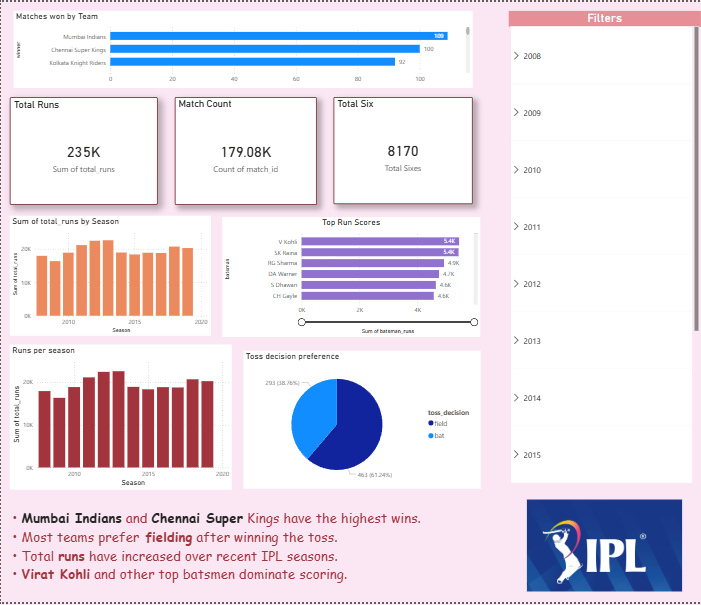

The dashboard page shown, as its layout file describes it:
{"tool":"powerbi","page":{"name":"IPL Analysis ","canvas":[1400,1200],"ordinal":0},"visuals":[{"type":"card","title":"Total Runs","fields":{"Values":["Sum(deliveries.total_runs)"]},"box":[18,190,296,216],"z":0},{"type":"card","title":"Match Count","fields":{"Values":["CountNonNull(deliveries.match_id)"]},"box":[348,190,284,216],"z":1000},{"type":"card","title":"Total Six","fields":{"Values":["deliveries.Total Sixes"]},"box":[664,190,278,214],"z":2000},{"type":"clusteredBarChart","title":"Top Run Scores","fields":{"Category":["deliveries.batsman"],"Y":["Sum(deliveries.batsman_runs)"]},"box":[442,430,516,238],"z":3000},{"type":"clusteredColumnChart","title":"Runs per season","fields":{"Category":["matches.Season"],"Y":["Sum(deliveries.total_runs)"]},"box":[18,684,444,290],"z":4000},{"type":"pieChart","title":"Toss decision preference","fields":{"Category":["matches.toss_decision"],"Y":["CountNonNull(matches.id)"]},"box":[484,698,474,276],"z":5000},{"type":"clusteredBarChart","title":"Matches won by Team","fields":{"Category":["matches.winner"],"Y":["CountNonNull(matches.id)"]},"box":[24,18,918,154],"z":6000},{"type":"listSlicer","title":"Filters ","fields":{"Values":["matches.Season","matches.team1"]},"box":[1015,17.5,385,955],"z":7000},{"type":"clusteredColumnChart","fields":{"Category":["matches.Season"],"Y":["Sum(deliveries.total_runs)"]},"box":[18,428,402,240],"z":8000},{"type":"textbox","box":[17.5,1007.5,875,192.5],"z":9000},{"type":"image","box":[1016,994,384,184],"z":9001}]}

Visuals, with their boxes in screenshot pixels (x1, y1, x2, y2), scaled from the page's 1400x1200 canvas onto the 701x605 screenshot:
"Total Runs" card: bbox(9, 96, 157, 205)
"Match Count" card: bbox(174, 96, 316, 205)
"Total Six" card: bbox(332, 96, 472, 204)
"Top Run Scores" clusteredBarChart: bbox(221, 217, 480, 337)
"Runs per season" clusteredColumnChart: bbox(9, 345, 231, 491)
"Toss decision preference" pieChart: bbox(242, 352, 480, 491)
"Matches won by Team" clusteredBarChart: bbox(12, 9, 472, 87)
"Filters " listSlicer: bbox(508, 9, 700, 490)
clusteredColumnChart - matches.Season x Sum(deliveries.total_runs): bbox(9, 216, 210, 337)
textbox: bbox(9, 508, 447, 604)
image: bbox(509, 501, 700, 594)
